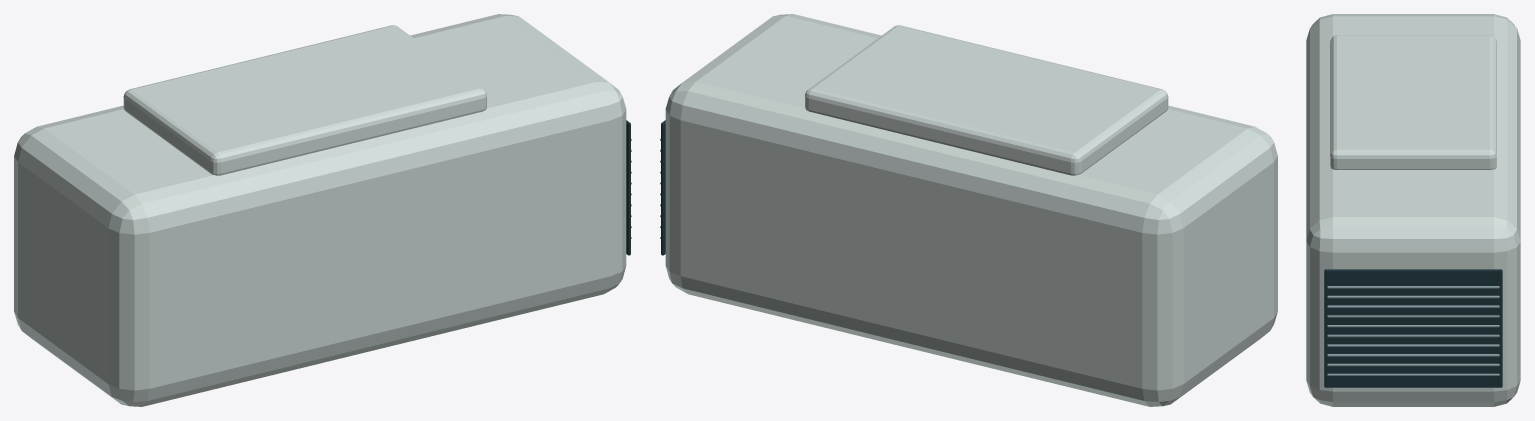
File: nacelle-skin.glb
3 views of the same model, side by side, from view 1: azimuth 30°, elevation 25°; view 2: azimuth 150°, elevation 25°; view 3: azimuth 270°, elevation 25° (orthographic). The views are drawn at different scales.
Parts seen in each view (by area): view 1: Aerodynamic nacelle, Service roof, Cooling inset; view 2: Aerodynamic nacelle, Service roof, Cooling inset; view 3: Aerodynamic nacelle, Service roof, Cooling inset, Vent 01, Vent 04, Vent 08, Vent 02, Vent 03, Vent 06, Vent 07, Vent 09, Vent 00 (+1 smaller).
Part boxes in pixels (x1,y1,x2,y2): Aerodynamic nacelle: (14, 14, 626, 406); Service roof: (123, 25, 486, 175); Cooling inset: (626, 120, 630, 255); Aerodynamic nacelle: (665, 14, 1277, 406); Service roof: (805, 25, 1168, 175); Cooling inset: (661, 120, 665, 255); Aerodynamic nacelle: (1306, 14, 1520, 406); Service roof: (1330, 35, 1496, 169); Cooling inset: (1324, 269, 1502, 387); Vent 01: (1327, 363, 1499, 366); Vent 04: (1327, 334, 1499, 337); Vent 08: (1327, 295, 1499, 298); Vent 02: (1327, 354, 1499, 356); Vent 03: (1327, 344, 1499, 346); Vent 06: (1327, 315, 1499, 317); Vent 07: (1327, 305, 1499, 307); Vent 09: (1327, 286, 1499, 288); Vent 00: (1327, 373, 1499, 375).
Bounding box in the file's own units: 13.98 × 5.9 × 5.6.
